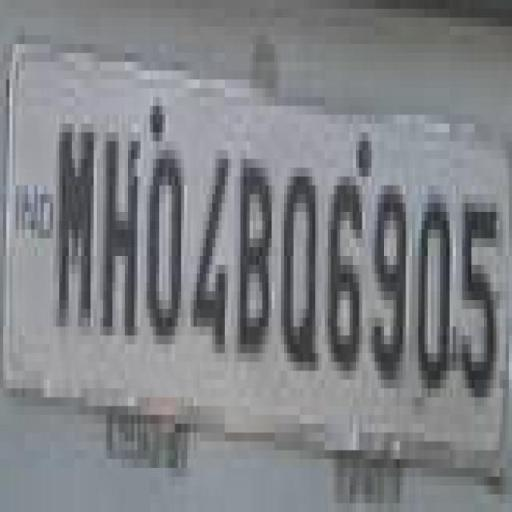number plate: (0, 26, 490, 450)
